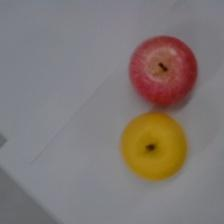red: (128, 34, 198, 106)
yellow: (120, 111, 187, 181)
